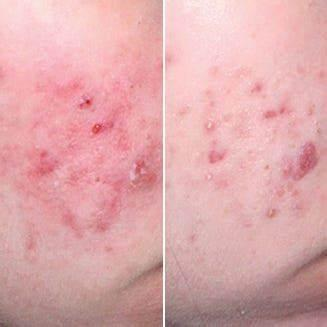Acne: (60, 85, 123, 139), (26, 141, 87, 188), (269, 146, 327, 184), (192, 133, 236, 175), (119, 151, 158, 189)
